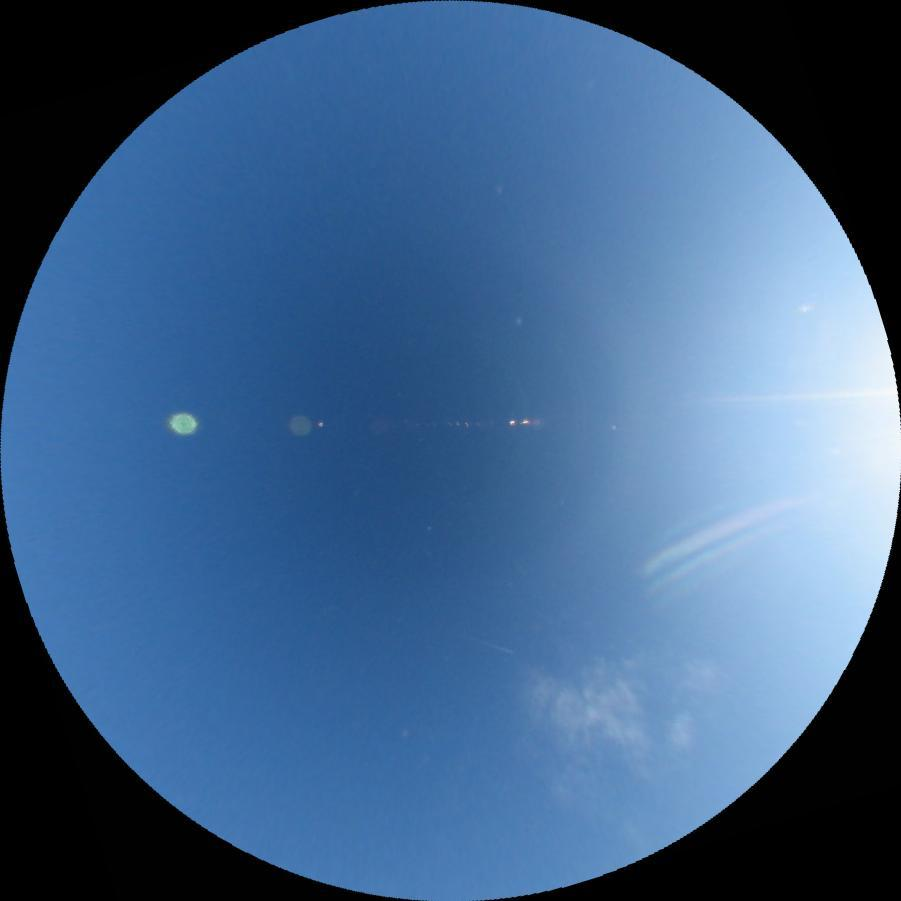contrail young: (466, 634, 513, 655)
parasite: (635, 486, 804, 578), (703, 389, 882, 404)
